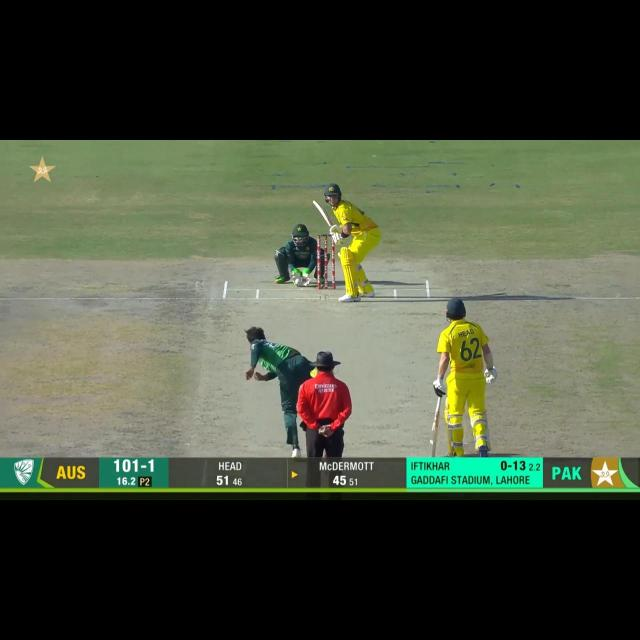bat: (311, 198, 335, 230), (427, 416, 440, 461)
toe: (309, 199, 323, 211), (426, 448, 438, 458)
